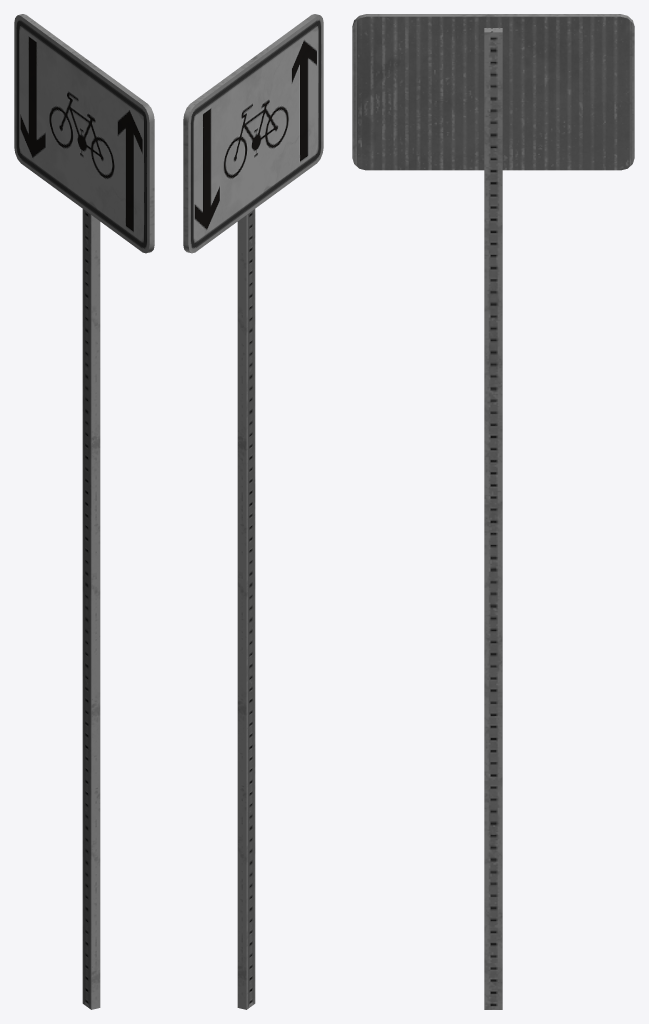
Rendered from MB_Sign_Bike.fbx.
The picture shows the model from 3 angles, left to right: view 1: azimuth 30°, elevation 25°; view 2: azimuth 150°, elevation 25°; view 3: azimuth 270°, elevation 25°; orthographic projection. The views are drawn at different scales.
Parts seen in each view (by area): view 1: MB_Sign_Bike; view 2: MB_Sign_Bike; view 3: MB_Sign_Bike.
Part boxes in pixels (<box>): MB_Sign_Bike: <box>14,14,154,1009</box>; MB_Sign_Bike: <box>183,14,323,1009</box>; MB_Sign_Bike: <box>352,14,634,1009</box>.
Bounding box in the file's own units: 3.3 × 211 × 54.74.
